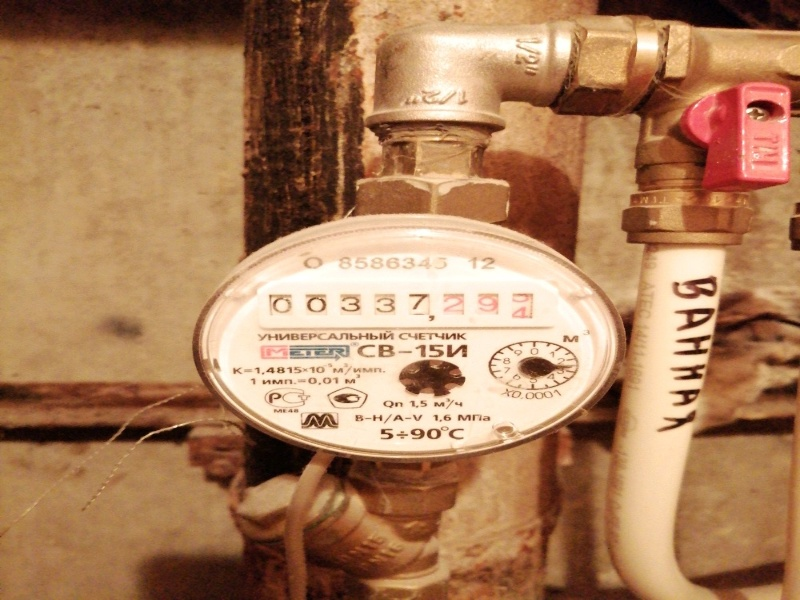meter: (264, 286, 544, 328)
